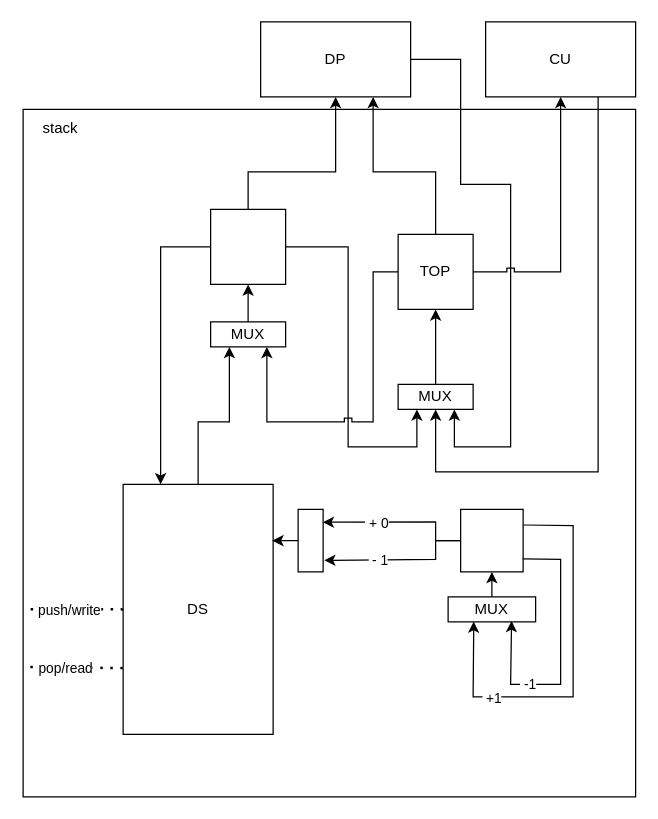
Some shapes in this 658 by 819 pixel diagram are drawn without their labels. Here are the shapes that lost their labels. From the top down, the centre of each, then its label:
At (x=247, y=246): "SECOND".
At (x=310, y=540): "M U X".
At (x=491, y=540): "pointer".
